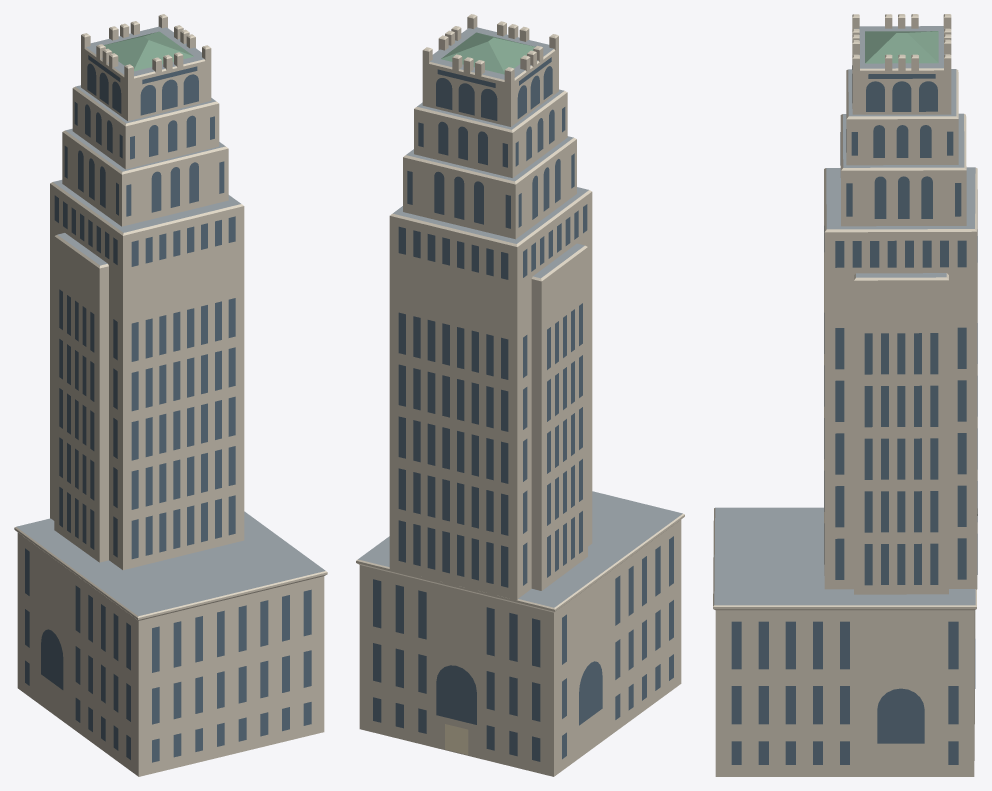
The model's file is tor-commerce-court-north.glb.
The picture shows the model from 3 angles, left to right: view 1: azimuth 30°, elevation 25°; view 2: azimuth 150°, elevation 25°; view 3: azimuth 270°, elevation 25°; orthographic projection. The views are drawn at different scales.
Parts seen in each view (by area): view 1: Commerce Court North; view 2: Commerce Court North; view 3: Commerce Court North.
Boxes of the visible parts, bbox=[...] form: Commerce Court North: bbox=[14, 14, 327, 776]; Commerce Court North: bbox=[356, 14, 684, 776]; Commerce Court North: bbox=[713, 14, 977, 776].
Size of the model in its own units: 44.19 by 146 by 50.14.
